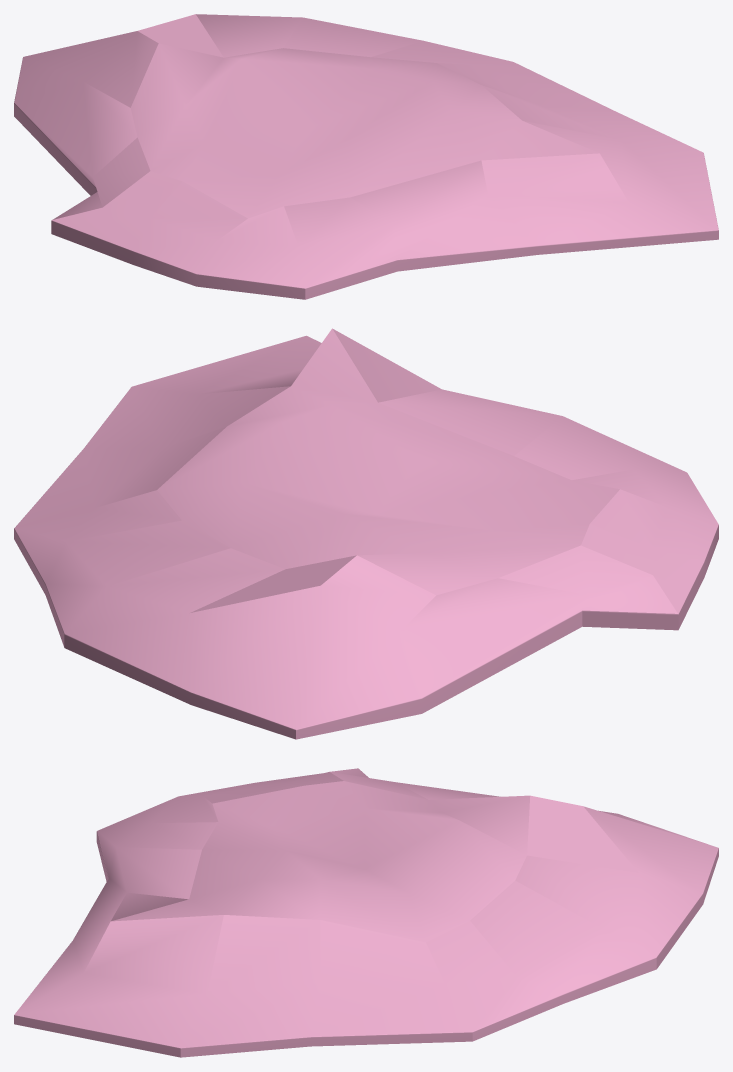
The model's file is Plant.fbx.
3 renders of one model, top to bottom at view 1: azimuth 30°, elevation 25°; view 2: azimuth 150°, elevation 25°; view 3: azimuth 270°, elevation 25°, orthographic. The views are drawn at different scales.
Visible parts, largest first — view 1: team04_01:polySurface129; view 2: team04_01:polySurface129; view 3: team04_01:polySurface129.
Part boxes in pixels (bbox=[...]): team04_01:polySurface129: bbox=[14, 14, 718, 299]; team04_01:polySurface129: bbox=[14, 328, 718, 739]; team04_01:polySurface129: bbox=[14, 768, 718, 1057].
Bounding box in the file's own units: 461 × 67.76 × 500.
